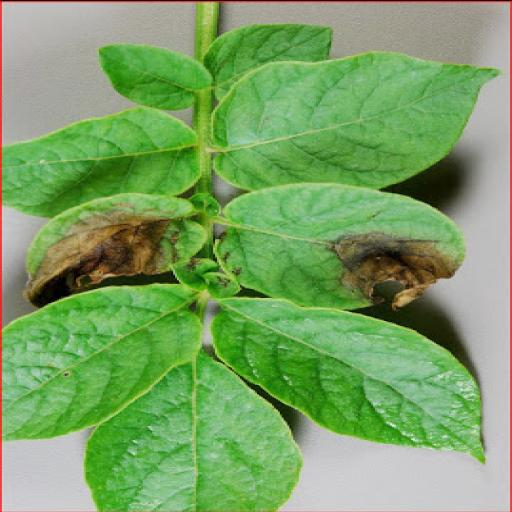Late Blight: (206, 182, 472, 318), (11, 192, 219, 314)
